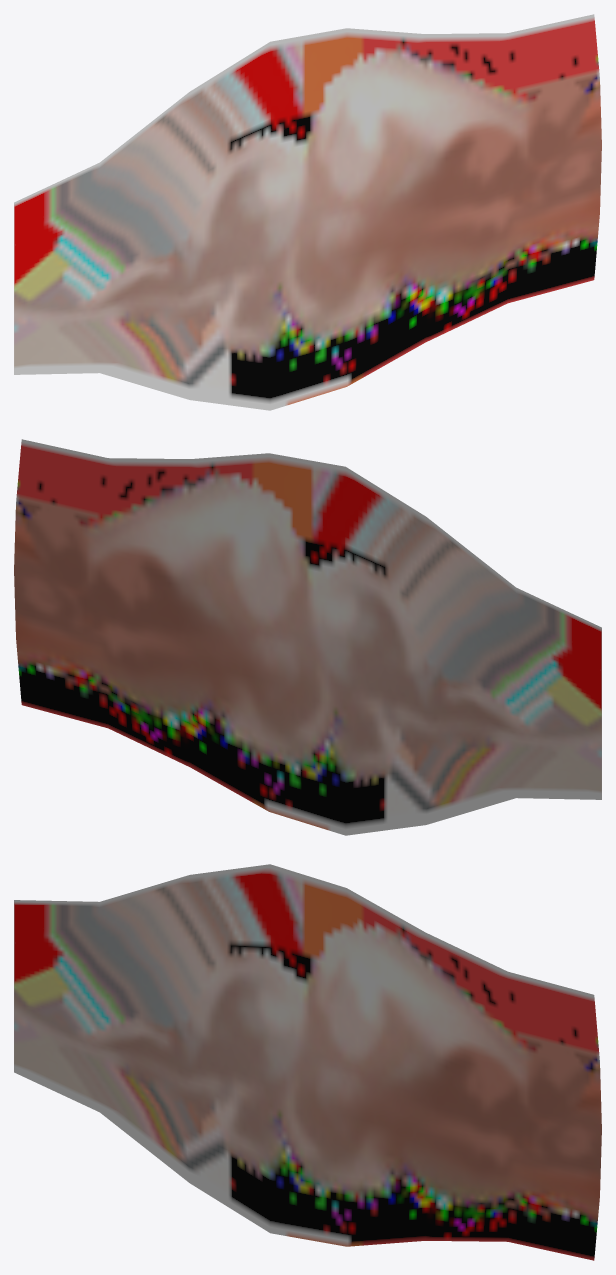
Rendered from Flame.FBX.
3 renders of one model, top to bottom at view 1: azimuth 30°, elevation 25°; view 2: azimuth 150°, elevation 25°; view 3: azimuth 330°, elevation 25°, orthographic.
Visible parts, largest first — view 1: Flame; view 2: Flame; view 3: Flame.
Part boxes in pixels (x1,y1,x2,y2): Flame: [14, 14, 601, 410]; Flame: [14, 439, 601, 835]; Flame: [14, 864, 601, 1260].
Bounding box in the file's own units: 87.6 × 6.65e-06 × 52.54.
